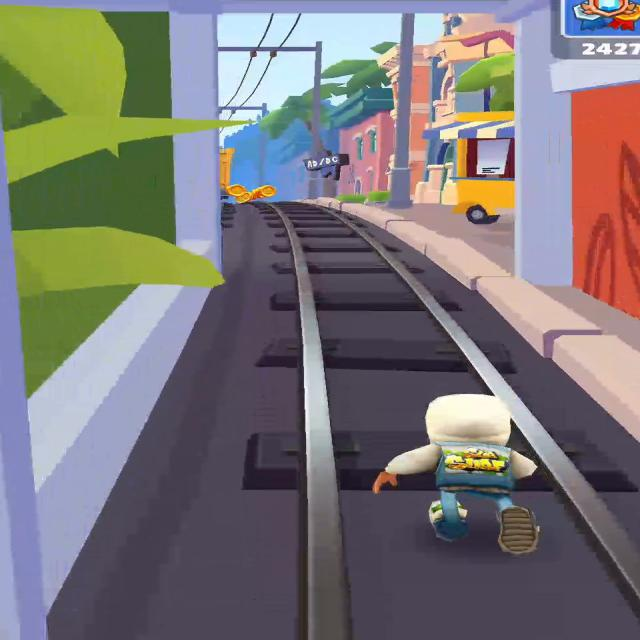block pillar: (0, 277, 211, 640), (0, 0, 221, 278)
train: (220, 148, 235, 198)
